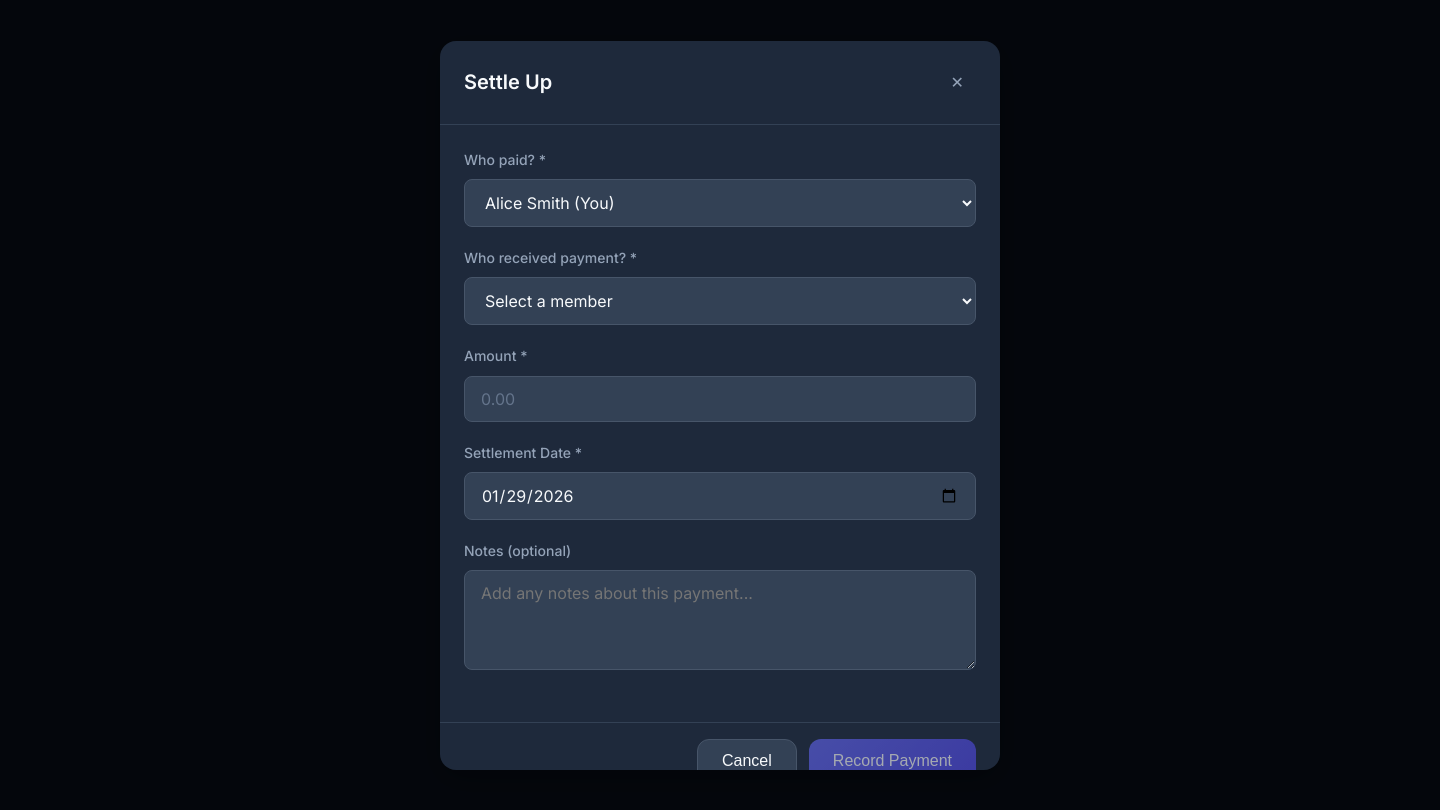
SettleUpModal › displays error message on submission failure
Select "Bob Jones" in the dropdown labelled "Who received payment? *": (720, 301) [464,277,976,325]
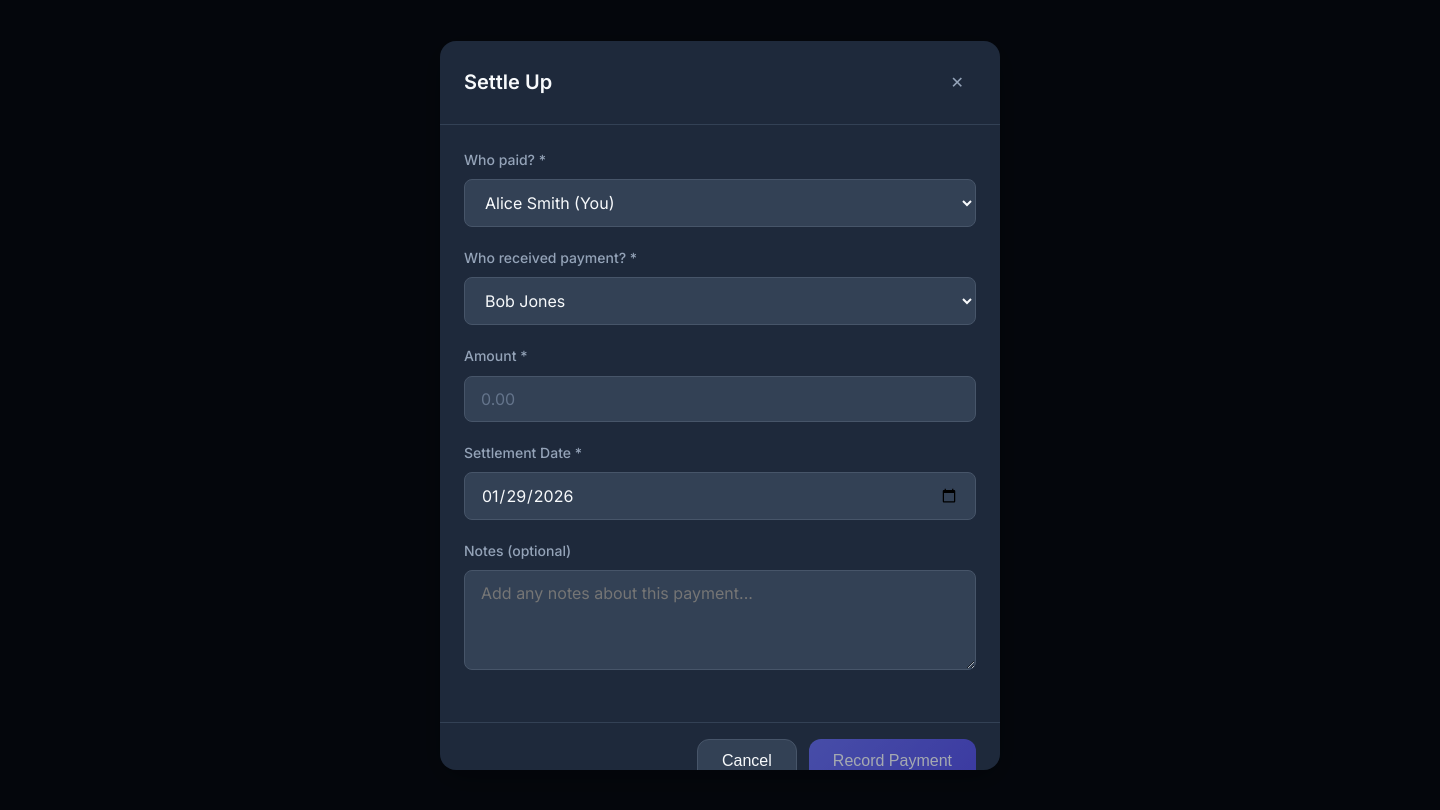
In the number field labelled "Amount *": (720, 399) [464,376,976,422], type "50"
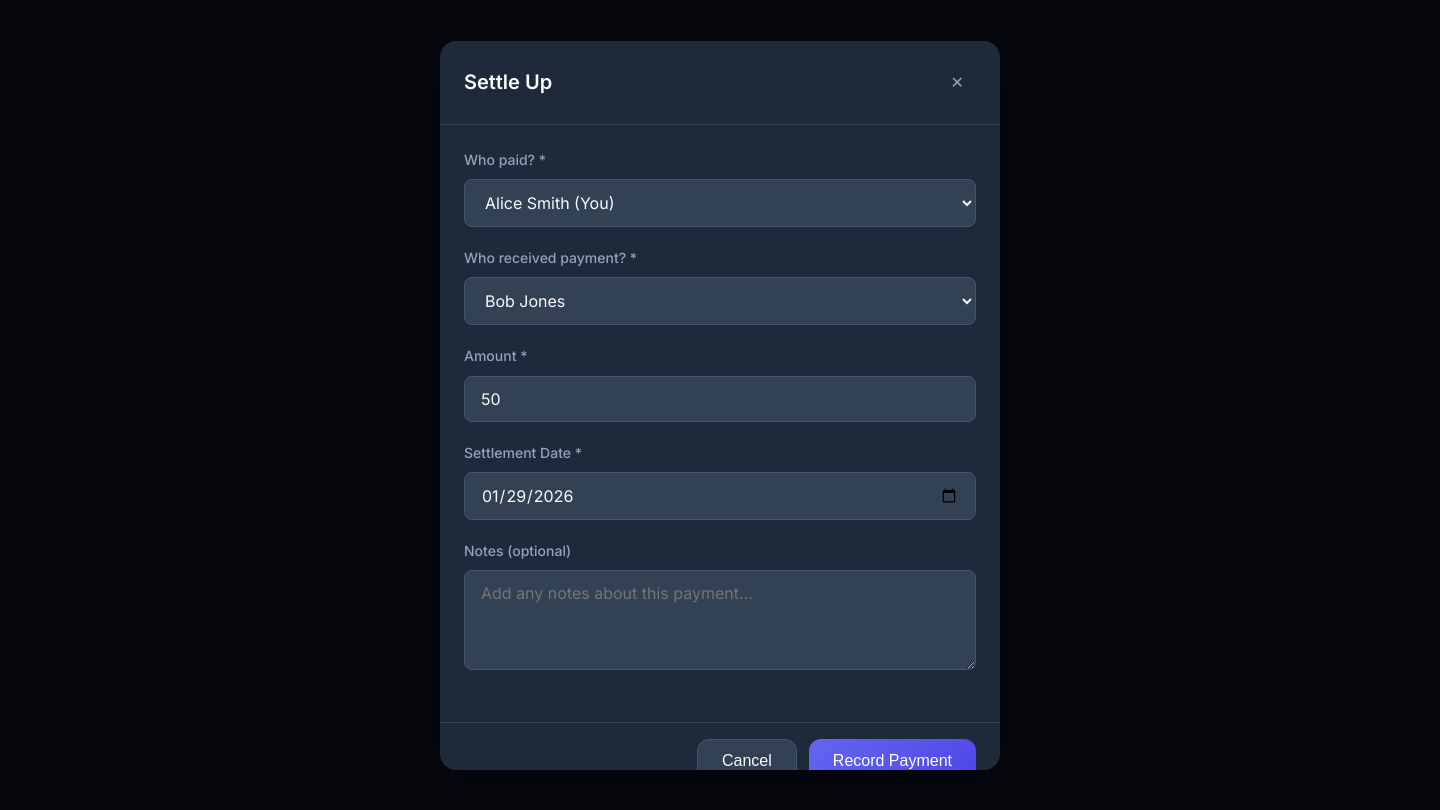
Click the button "Record Payment": (892, 761) [809,739,976,783]
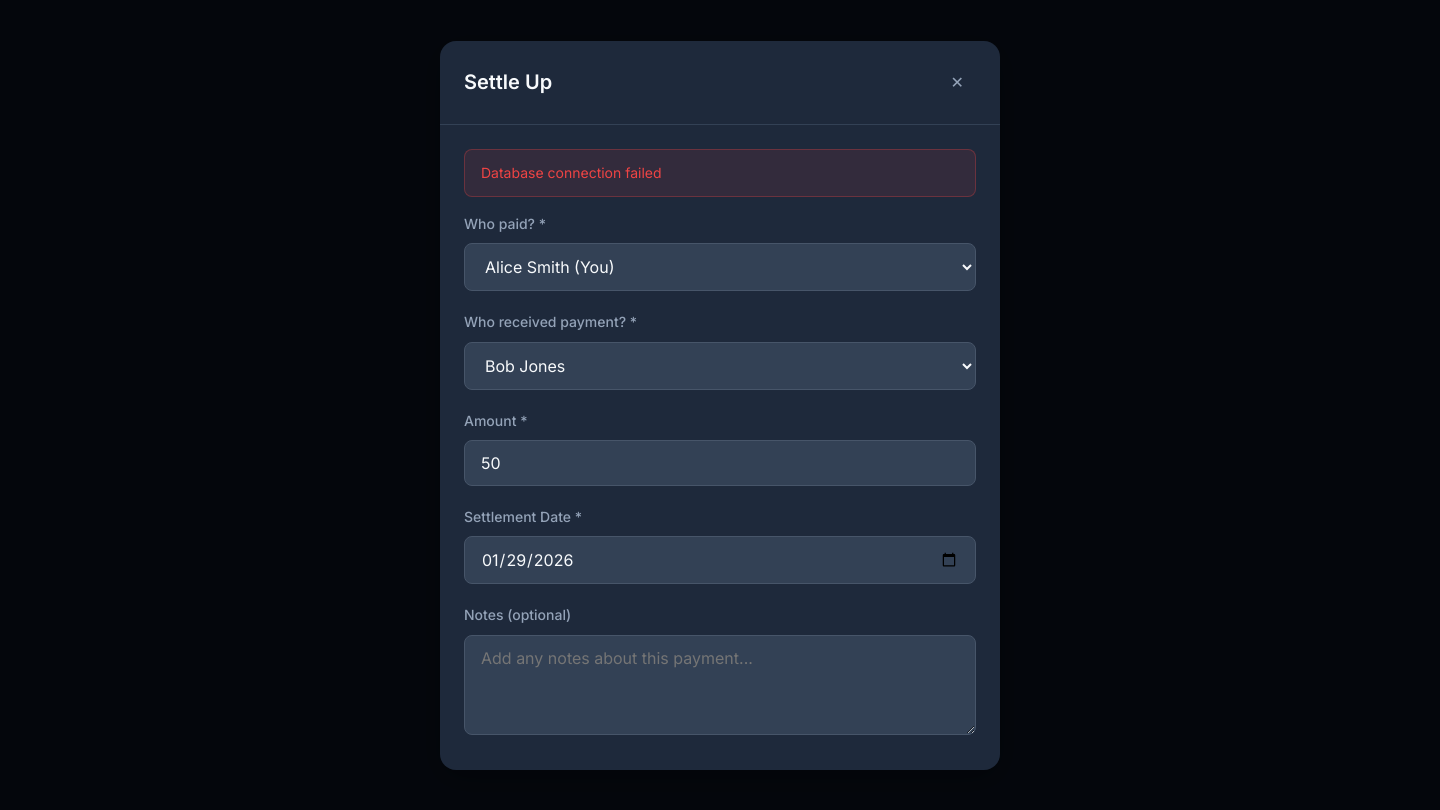
expect the text "Database connection failed" is shown: met, box [464,148,976,197]
